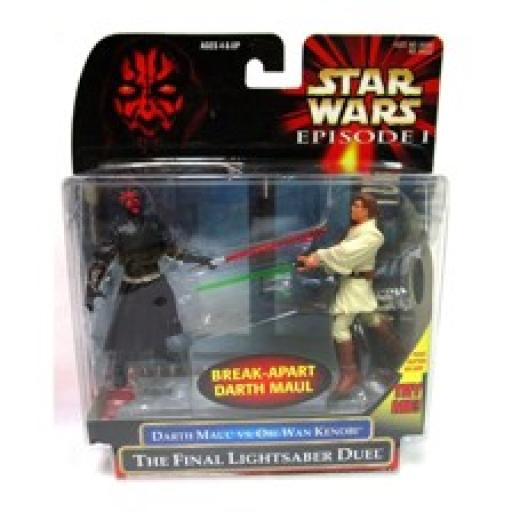human: (84, 186, 214, 414), (303, 190, 409, 404)
lightsaber: (188, 252, 319, 296)
sith saber: (189, 224, 326, 276)
